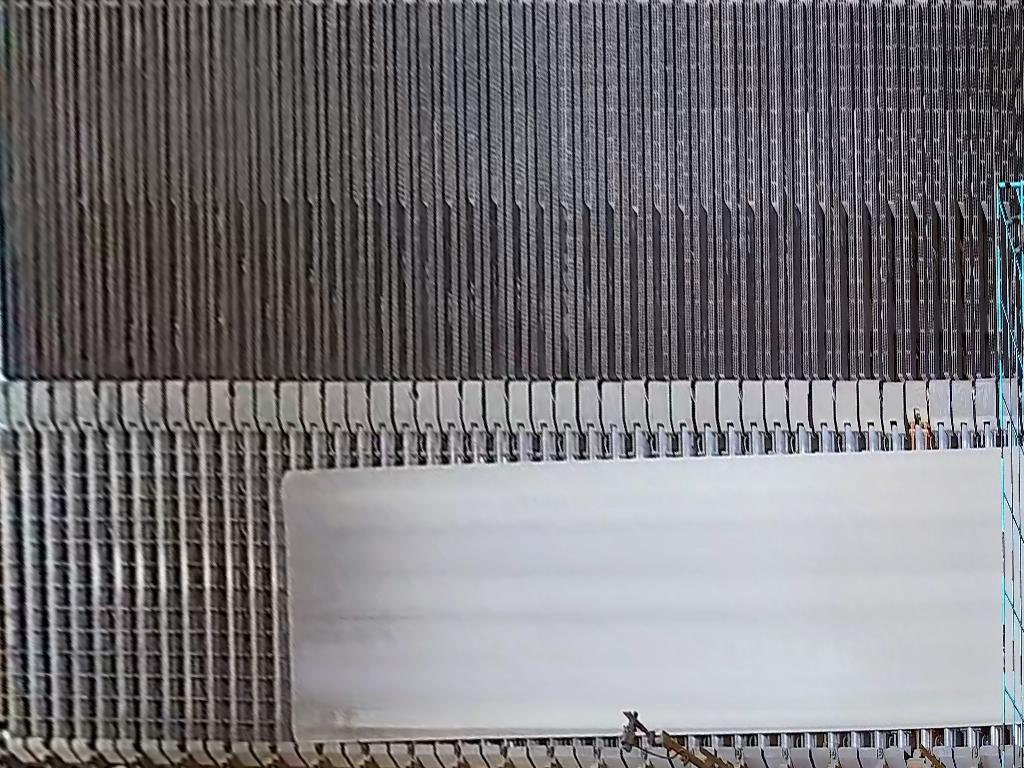steel: (279, 444, 1024, 745)
